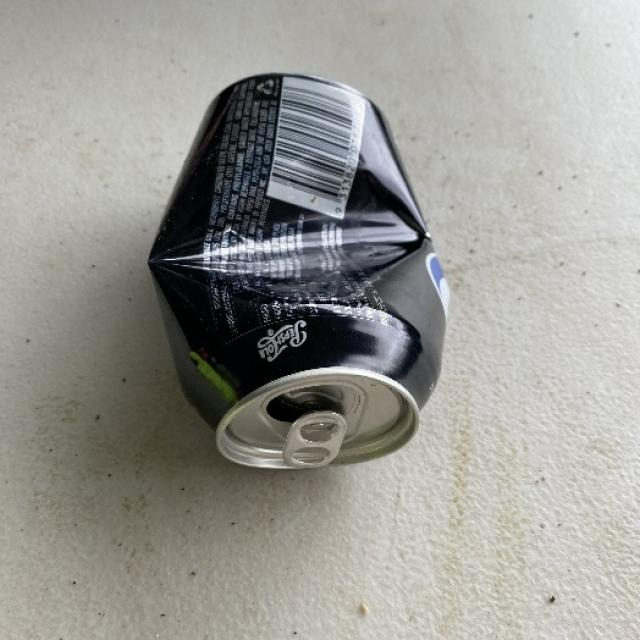metal: (146, 71, 450, 470)
